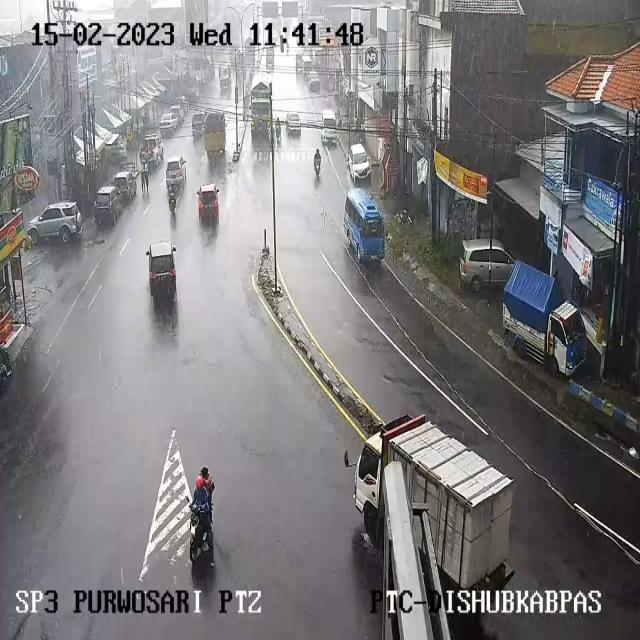Bus: (344, 196, 386, 266)
Car: (458, 239, 514, 294), (27, 203, 81, 245), (149, 239, 175, 296), (93, 187, 124, 226), (347, 142, 371, 182), (197, 184, 220, 223), (165, 156, 187, 194), (112, 170, 138, 202), (140, 134, 164, 166), (320, 109, 337, 141), (158, 112, 179, 134), (191, 113, 207, 137), (299, 52, 312, 78), (286, 113, 301, 135), (219, 66, 231, 93), (306, 71, 320, 93), (170, 106, 184, 124)
Motorbike: (190, 461, 217, 566), (165, 179, 179, 216), (313, 149, 322, 178)
Truck: (352, 412, 512, 598), (500, 266, 592, 380), (250, 76, 273, 142), (203, 112, 226, 162), (264, 48, 276, 70)
